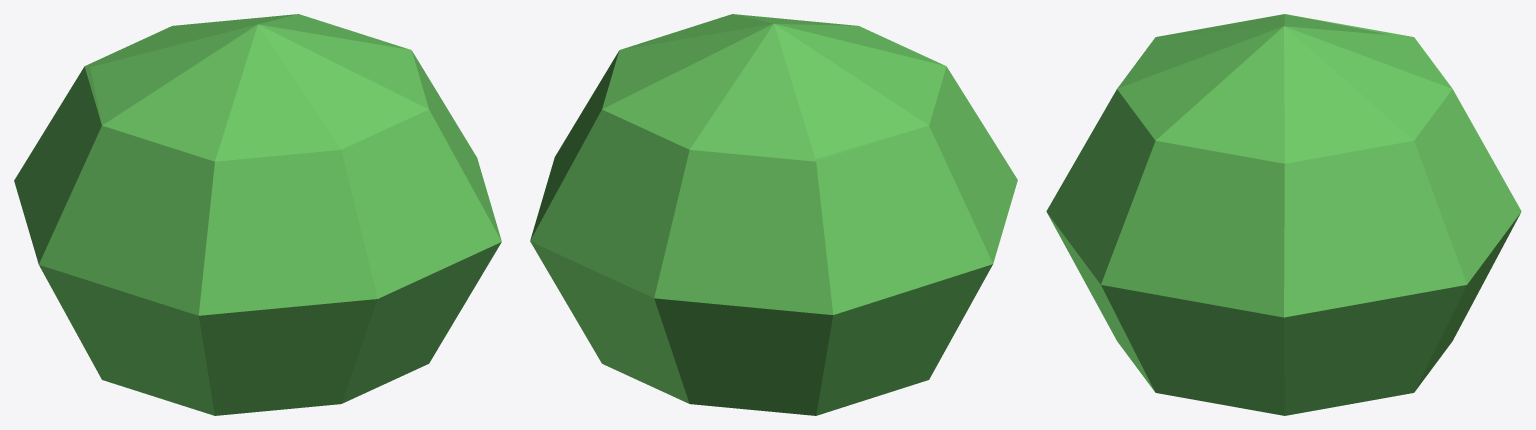
Rendered from Cabbage.fbx.
The picture shows the model from 3 angles, left to right: view 1: azimuth 30°, elevation 25°; view 2: azimuth 150°, elevation 25°; view 3: azimuth 270°, elevation 25°; orthographic projection.
Parts seen in each view (by area): view 1: Cabbage; view 2: Cabbage; view 3: Cabbage.
Boxes of the visible parts, x1,y1,x2,y2 form: Cabbage: [14, 14, 501, 415]; Cabbage: [530, 14, 1017, 415]; Cabbage: [1046, 14, 1521, 415].
Bounding box in the file's own units: 28.84 × 23.49 × 27.31.
